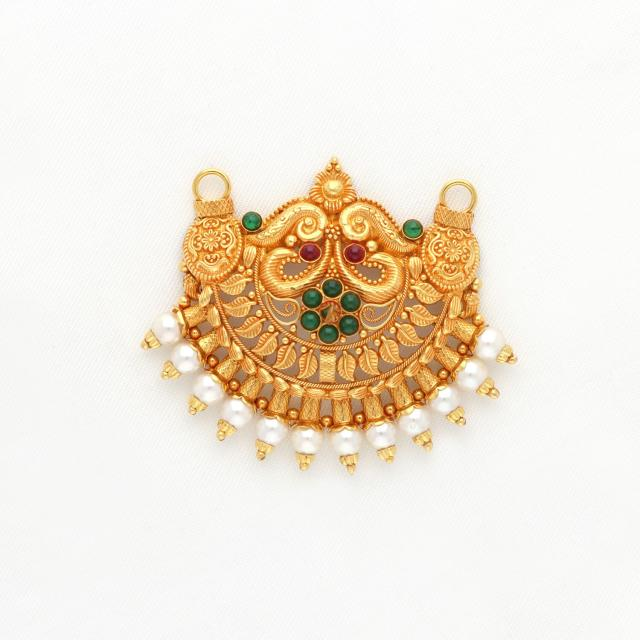missing gem: (320, 301, 341, 322)
